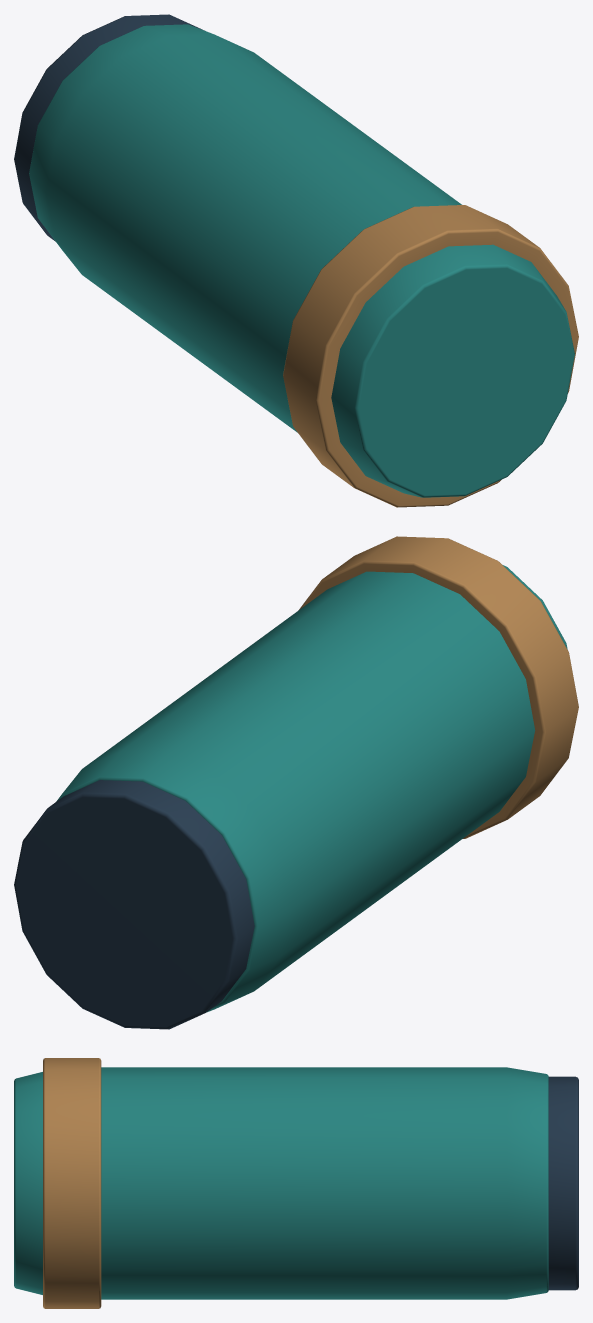
File: smoke_canister.glb
3 renders of one model, top to bottom at view 1: azimuth 30°, elevation 25°; view 2: azimuth 150°, elevation 25°; view 3: azimuth 270°, elevation 25°, orthographic. The views are drawn at different scales.
Parts seen in each view (by area): view 1: smoke_canister__canister_body, smoke_canister__rim, smoke_canister__cap; view 2: smoke_canister__canister_body, smoke_canister__cap, smoke_canister__rim; view 3: smoke_canister__canister_body, smoke_canister__rim, smoke_canister__cap.
Boxes of the visible parts, x1,y1,x2,y2 form: smoke_canister__canister_body: (29,24,574,497); smoke_canister__rim: (283,205,578,507); smoke_canister__cap: (14,14,204,241); smoke_canister__canister_body: (56,565,567,1012); smoke_canister__cap: (14,780,254,1029); smoke_canister__rim: (298,536,578,838); smoke_canister__canister_body: (14,1067,548,1299); smoke_canister__rim: (43,1058,101,1308); smoke_canister__cap: (548,1076,578,1290).
Size of the model in its own units: 0.108 by 0.108 by 0.243.
